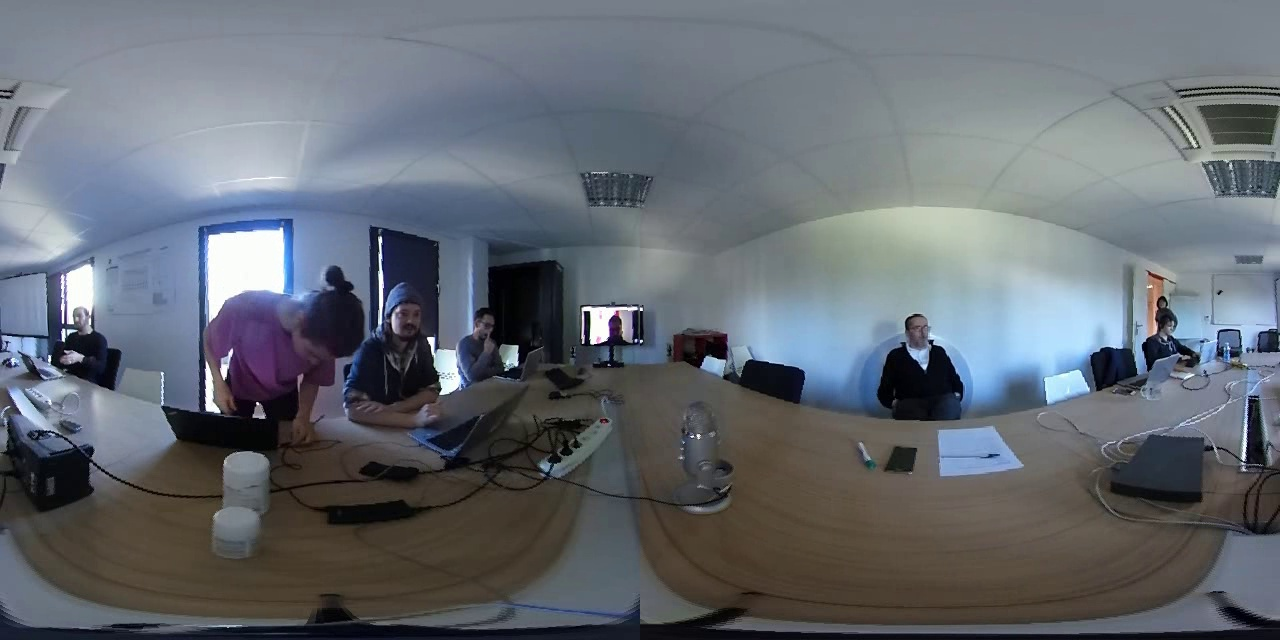person: (199, 267, 365, 452), (868, 298, 979, 418), (370, 276, 443, 413), (43, 295, 116, 382), (450, 300, 519, 365), (1138, 310, 1197, 368), (582, 304, 635, 341), (1143, 286, 1185, 310)
